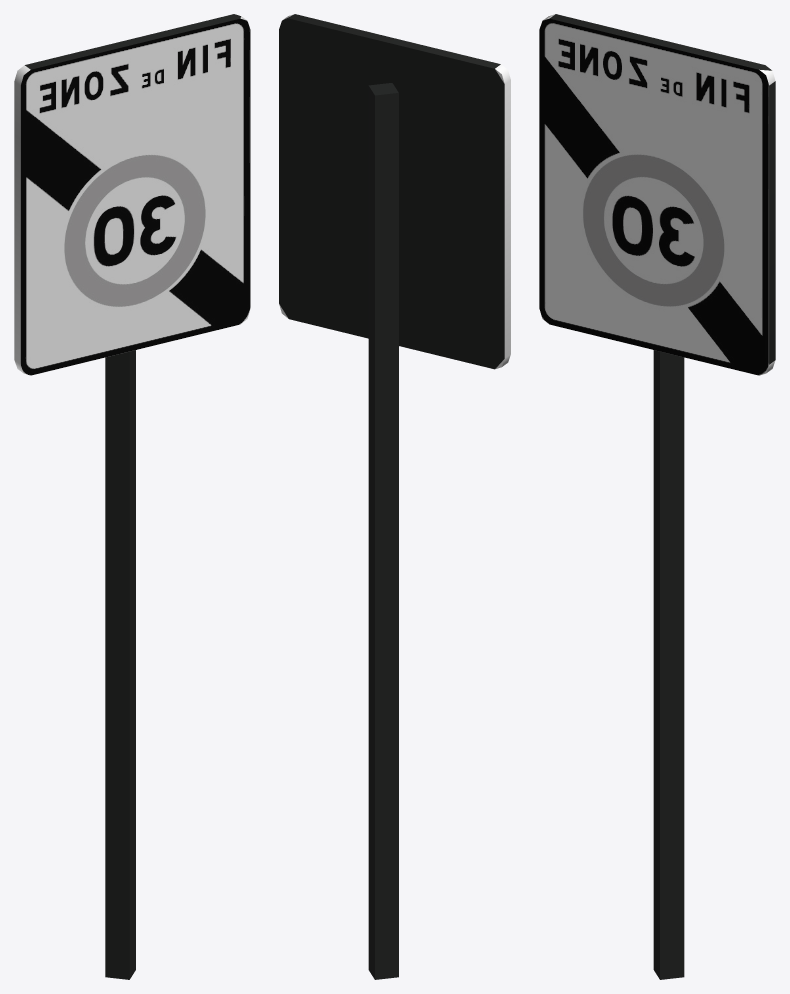
Rendered from Zone30End.obj.
3 renders of one model, left to right at view 1: azimuth 30°, elevation 25°; view 2: azimuth 150°, elevation 25°; view 3: azimuth 330°, elevation 25°, orthographic.
Visible parts, largest first — view 1: Sign_SpeedLimit_Zone_30_Sign_SpeedZone_30; view 2: Sign_SpeedLimit_Zone_30_Sign_SpeedZone_30; view 3: Sign_SpeedLimit_Zone_30_Sign_SpeedZone_30.
Part boxes in pixels (bbox=[...]): Sign_SpeedLimit_Zone_30_Sign_SpeedZone_30: bbox=[14, 14, 250, 979]; Sign_SpeedLimit_Zone_30_Sign_SpeedZone_30: bbox=[279, 14, 510, 979]; Sign_SpeedLimit_Zone_30_Sign_SpeedZone_30: bbox=[539, 14, 775, 979].
Size of the model in its own units: 1.19 by 4.64 by 0.2117.
2 materials, 1 textured.
